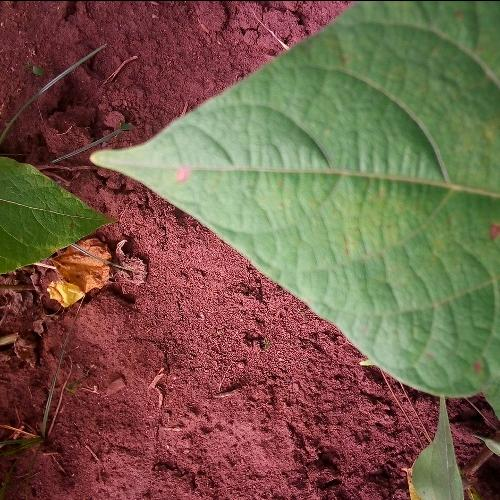hawar: (465, 354, 492, 382), (172, 162, 195, 192), (485, 221, 500, 247)
mozaik: (289, 174, 439, 278), (360, 30, 458, 136)
